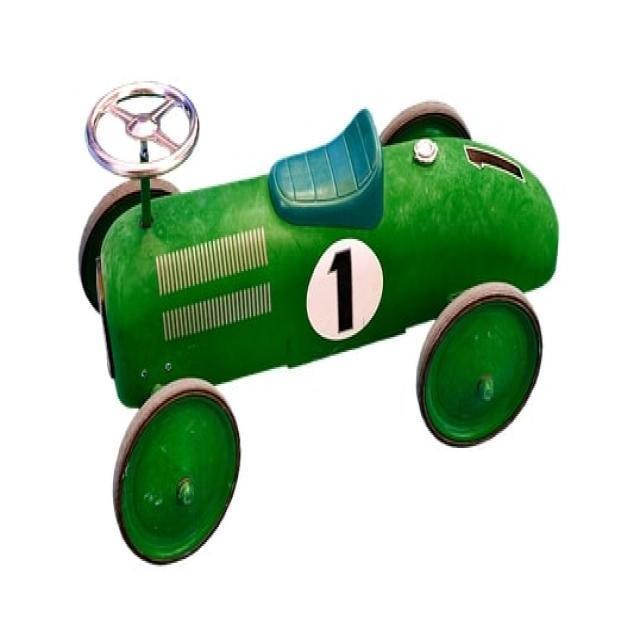Car: (77, 77, 559, 565)
